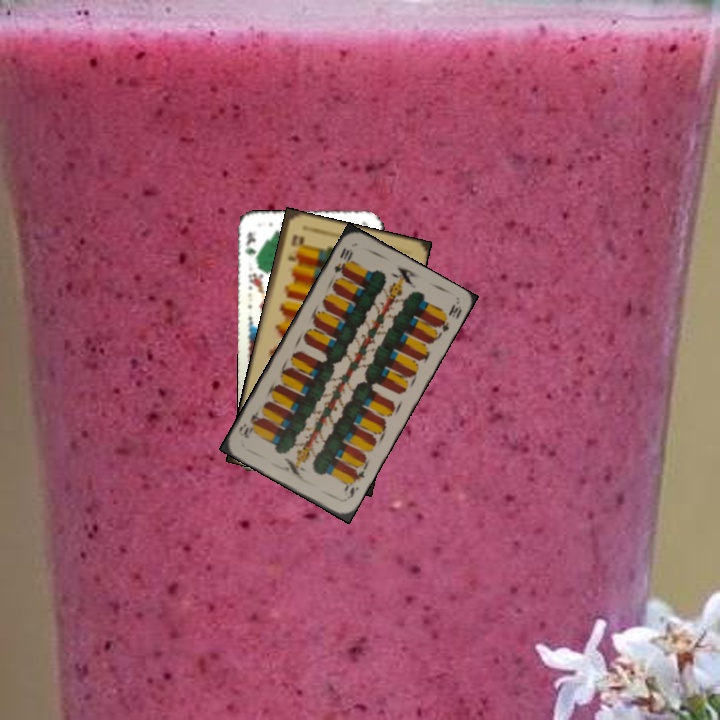E10: (340, 466, 367, 502), (330, 244, 356, 278), (284, 231, 303, 264)
GK: (241, 228, 260, 266)
